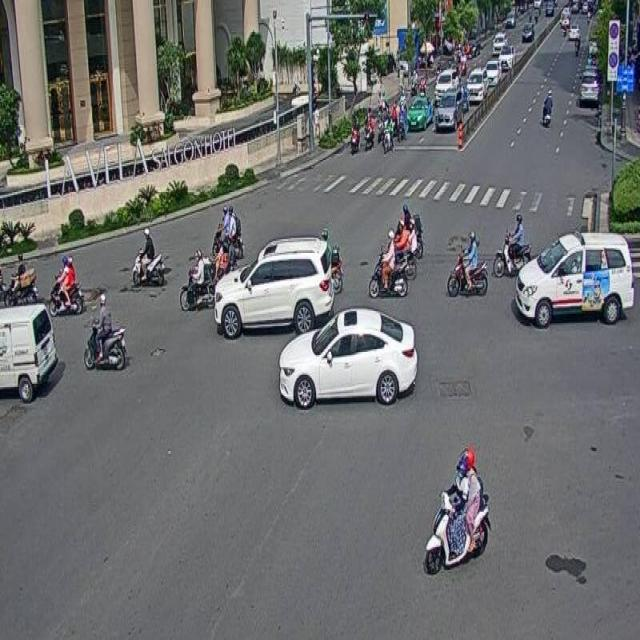car: (275, 309, 418, 410), (514, 227, 634, 328), (210, 241, 334, 337)
motorcycle: (424, 445, 491, 579), (82, 291, 126, 370), (366, 226, 408, 300), (445, 229, 487, 297), (492, 210, 529, 280), (180, 247, 214, 312), (129, 229, 165, 288), (48, 254, 83, 314), (211, 204, 243, 261)
